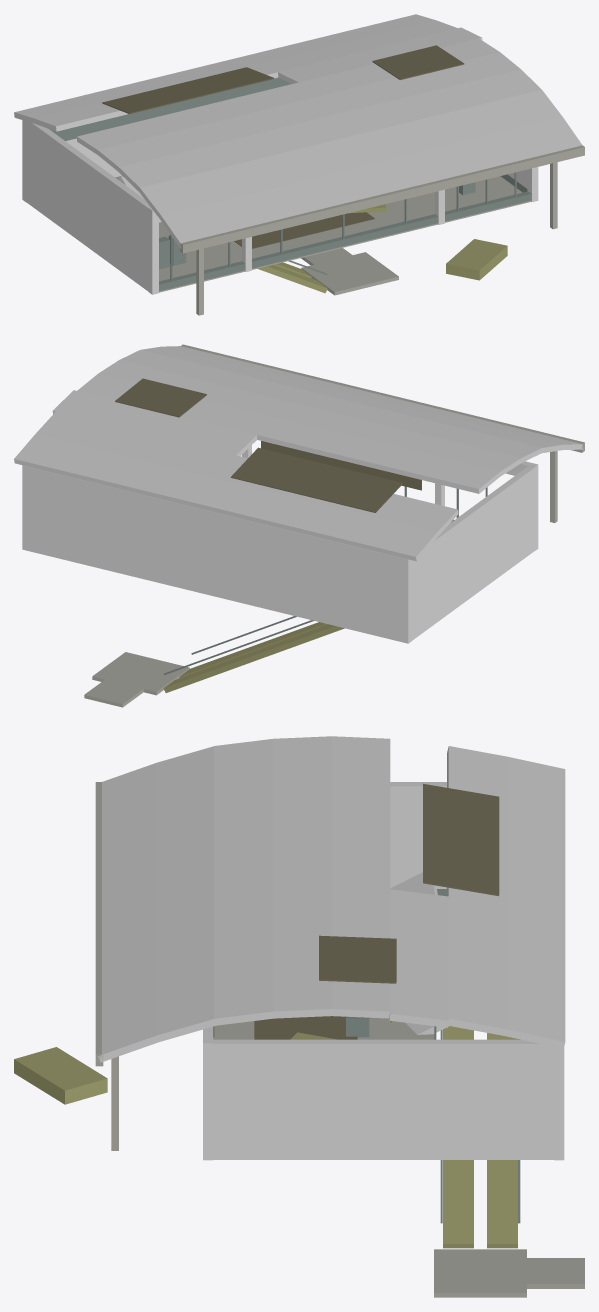
The model's file is SM_VestibuloCastellon_v3_Caida_LOD0.fbx.
3 views of the same model, one above another, from view 1: azimuth 30°, elevation 25°; view 2: azimuth 150°, elevation 25°; view 3: azimuth 270°, elevation 25° (orthographic). The views are drawn at different scales.
Parts seen in each view (by area): view 1: Cubierta, SM_vestibulo_castellon_v3_LOD0; view 2: Cubierta, SM_vestibulo_castellon_v3_LOD0; view 3: Cubierta, SM_vestibulo_castellon_v3_LOD0.
Part boxes in pixels (x1,y1,x2,y2): Cubierta: (14,14,584,315); SM_vestibulo_castellon_v3_LOD0: (22,77,538,295); Cubierta: (14,344,584,561); SM_vestibulo_castellon_v3_LOD0: (22,441,538,707); Cubierta: (95,736,565,1150); SM_vestibulo_castellon_v3_LOD0: (14,782,584,1297).
Bounding box in the file's own units: 25.2 × 14.3 × 22.11.
